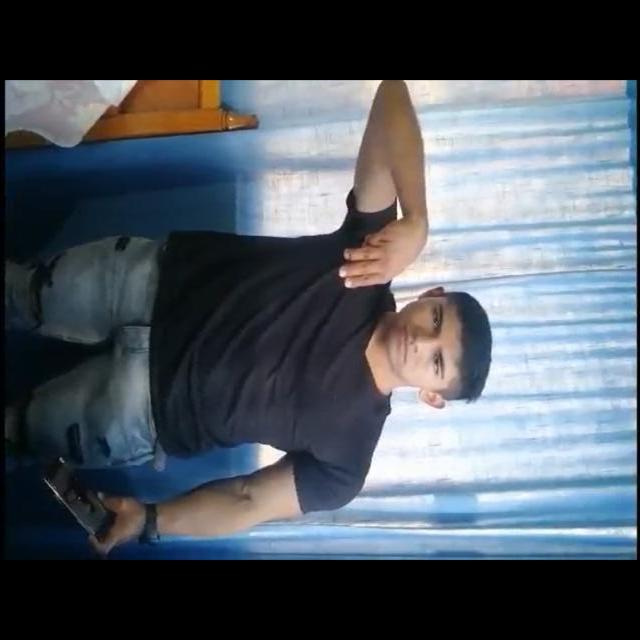M: (318, 215, 444, 298)
